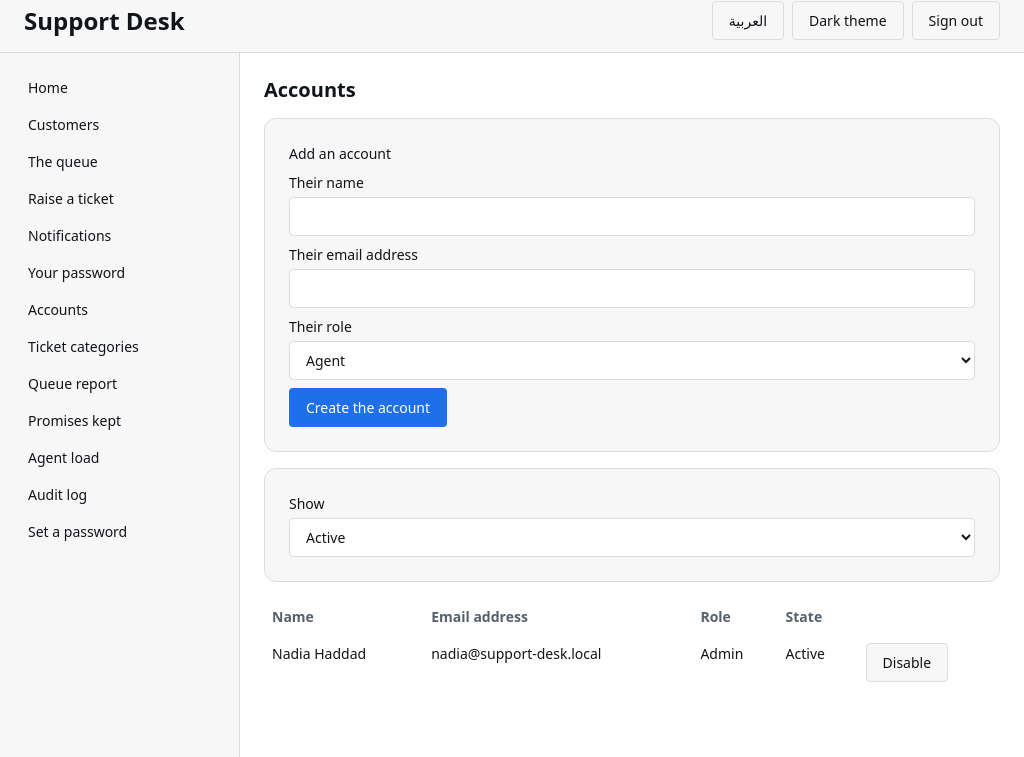
it: each refusal says which rule refused it, not that something went wrong
This screenshot has width=1024, height=757.
expect the text "Nadia Haddad" is shown: met, box [264,635,423,690]
Click the button "Disable". click: [907, 662]
box: [866,643,948,682]
(page scrolled)
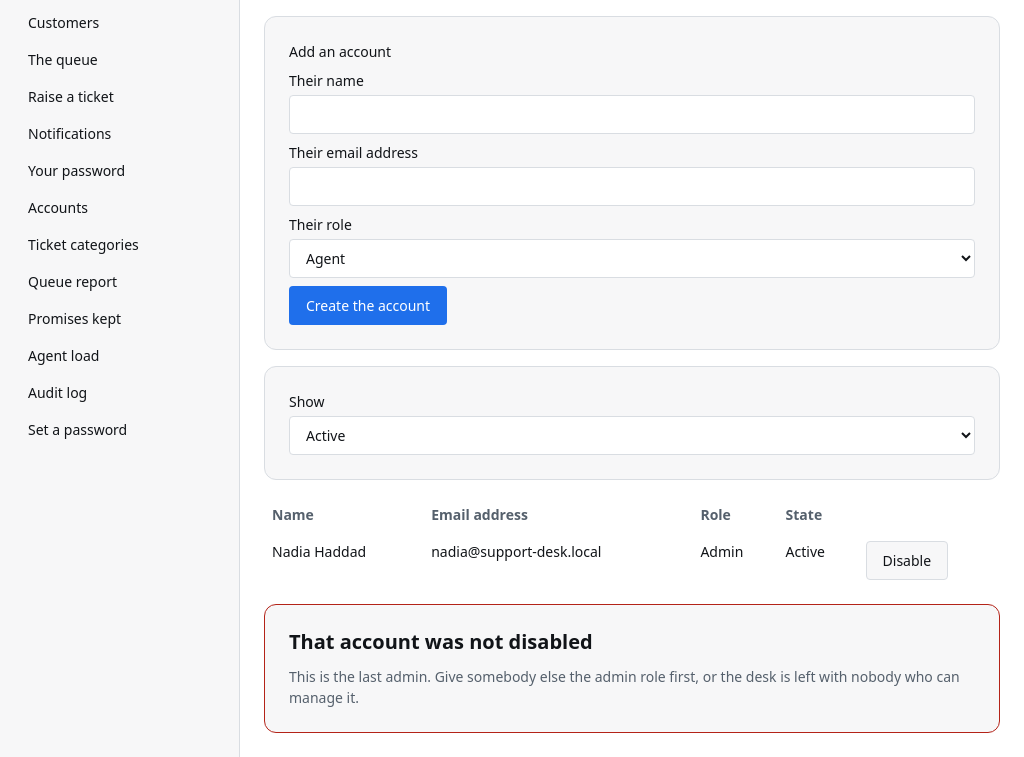
expect the text "This is the last admin. Give somebody else the admin role first, or the desk is left with nobody who can manage it." is shown: met, box [289,667,960,707]
